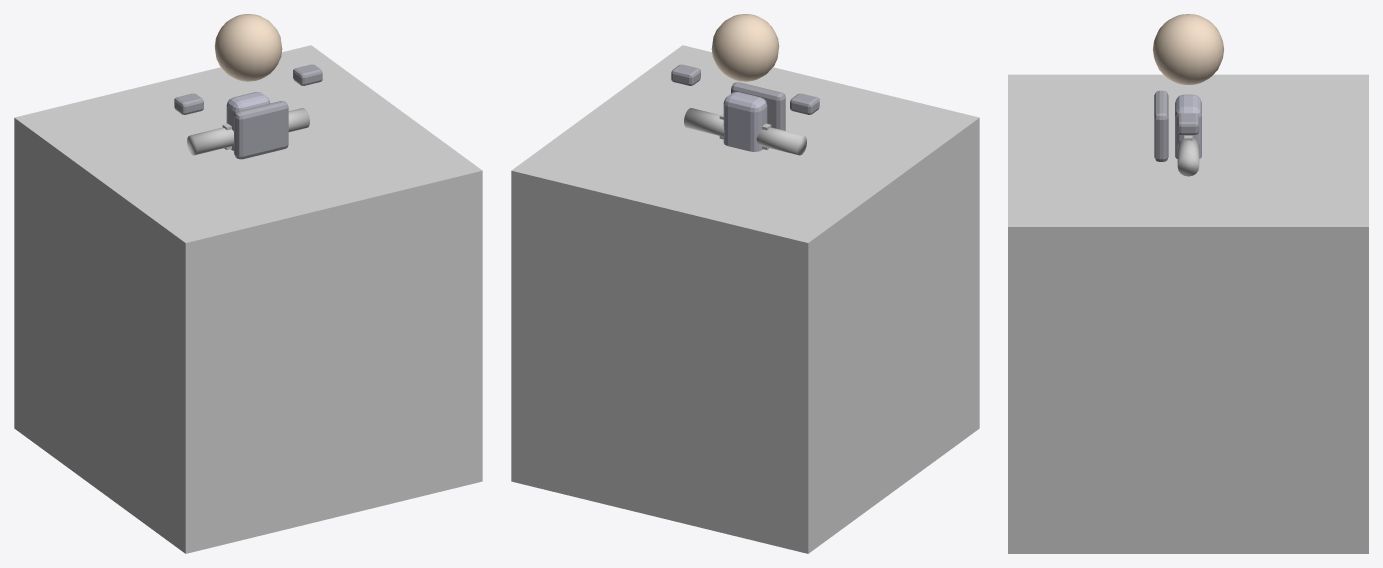
File: a98ca52a-e37f-42fc-b1e5-30ccf8d083bc.glb
3 renders of one model, left to right at view 1: azimuth 30°, elevation 25°; view 2: azimuth 150°, elevation 25°; view 3: azimuth 270°, elevation 25°, orthographic. The views are drawn at different scales.
Visible parts, largest first — view 1: Cube, AkkuBase_Head, Armor_chest_chest_plate, AkkuBase_UpperArm_L, AkkuBase_Torso; view 2: Cube, AkkuBase_Head, AkkuBase_Torso, Armor_chest_chest_plate, AkkuBase_UpperArm_L, AkkuBase_UpperArm_R; view 3: Cube, AkkuBase_Head, Armor_chest_chest_plate, AkkuBase_Torso, AkkuBase_UpperArm_R, Armor_right_shoulder_shoulder_pad.
Boxes of the visible parts, x1,y1,x2,y2 form: Cube: [14, 45, 482, 553]; AkkuBase_Head: [214, 14, 282, 81]; Armor_chest_chest_plate: [234, 101, 288, 159]; AkkuBase_UpperArm_L: [187, 127, 233, 155]; AkkuBase_Torso: [226, 92, 270, 150]; Cube: [511, 45, 979, 553]; AkkuBase_Head: [711, 14, 779, 81]; AkkuBase_Torso: [723, 92, 767, 151]; Armor_chest_chest_plate: [731, 82, 785, 130]; AkkuBase_UpperArm_L: [756, 127, 806, 155]; AkkuBase_UpperArm_R: [684, 108, 724, 136]; Cube: [1008, 74, 1368, 553]; AkkuBase_Head: [1152, 14, 1224, 84]; Armor_chest_chest_plate: [1154, 90, 1168, 161]; AkkuBase_Torso: [1175, 94, 1201, 158]; AkkuBase_UpperArm_R: [1177, 138, 1199, 176]; Armor_right_shoulder_shoulder_pad: [1177, 113, 1199, 134].
Size of the model in its own units: 2 by 2.82 by 2.
